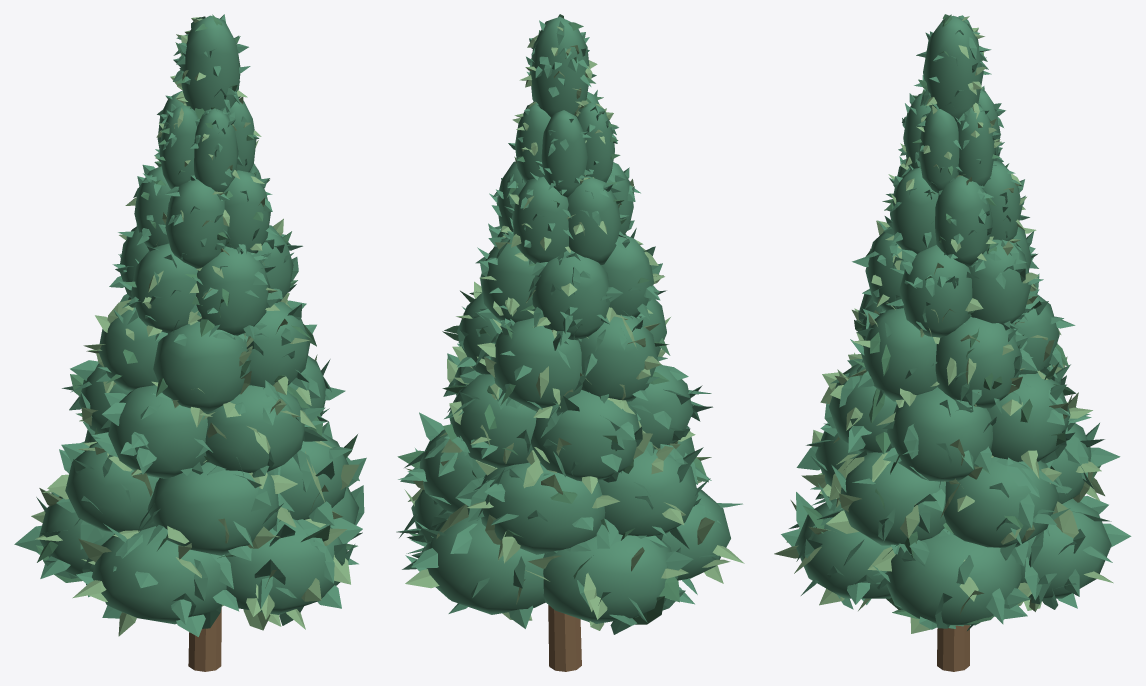
The model's file is Tree_Conifer_A.fbx.
3 views of the same model, side by side, from view 1: azimuth 30°, elevation 25°; view 2: azimuth 150°, elevation 25°; view 3: azimuth 270°, elevation 25° (orthographic).
Visible parts, largest first — view 1: Tree_Conifer_A; view 2: Tree_Conifer_A; view 3: Tree_Conifer_A.
Part boxes in pixels (x1,y1,x2,y2): Tree_Conifer_A: [14, 14, 366, 671]; Tree_Conifer_A: [396, 14, 744, 671]; Tree_Conifer_A: [774, 14, 1131, 671].
Bounding box in the file's own units: 278 × 558 × 277.
